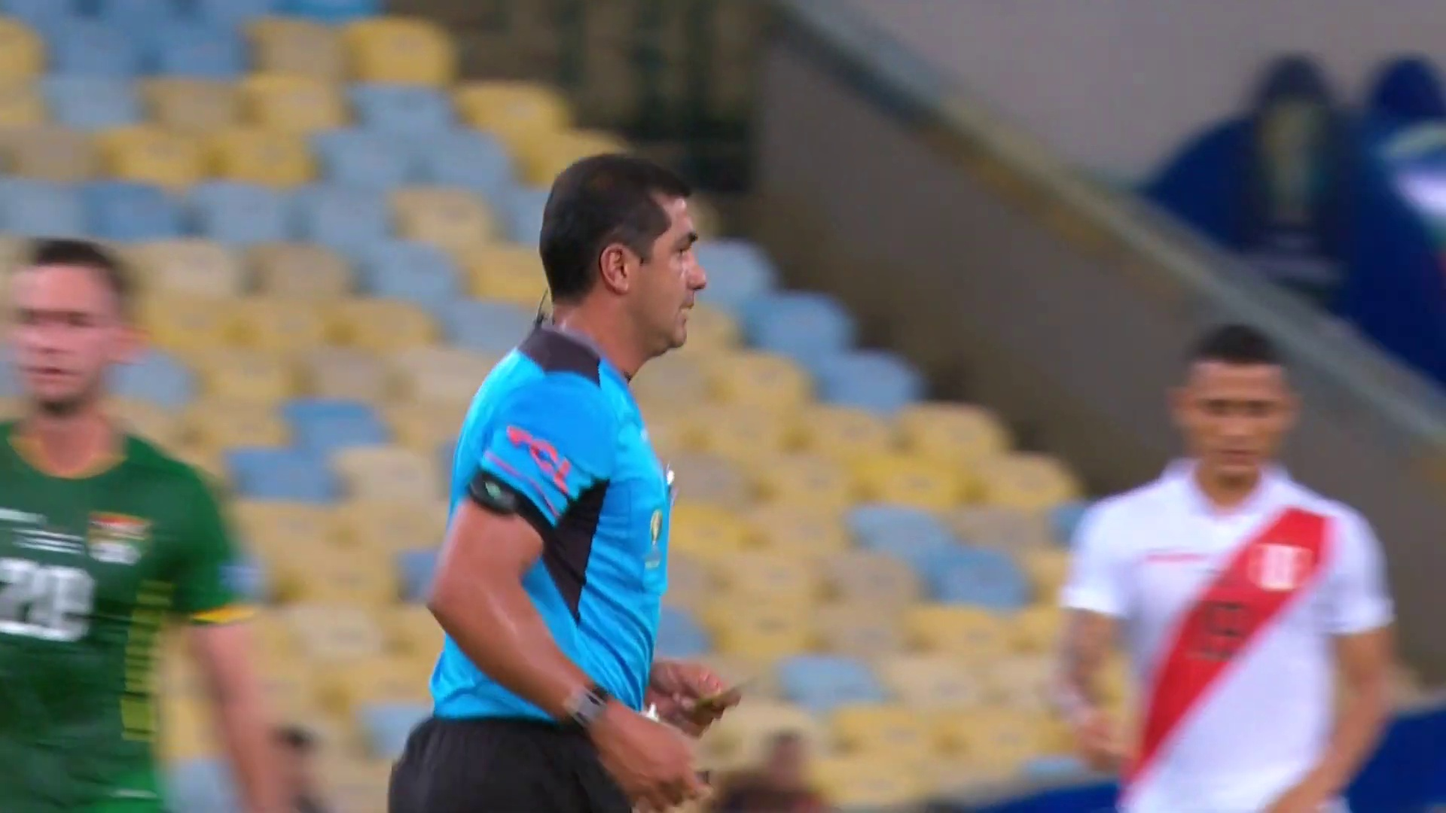player: (1027, 301, 1420, 812), (0, 208, 308, 812)
referee: (381, 145, 759, 808)
